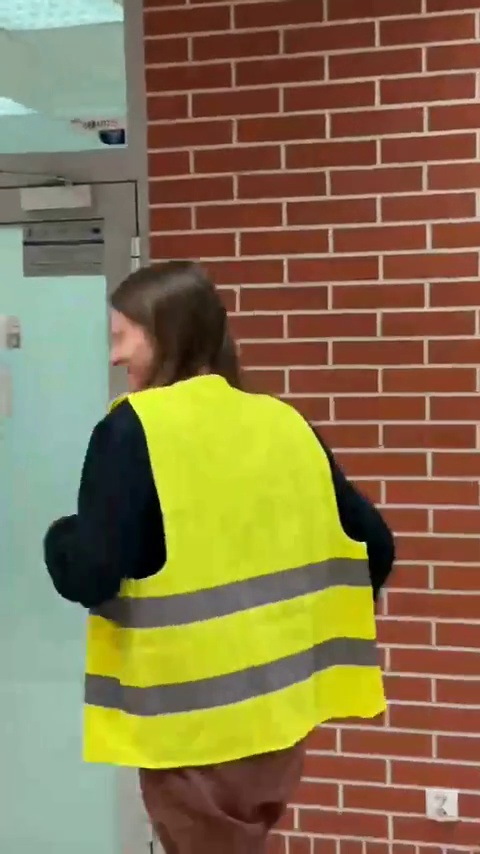vest: (36, 262, 399, 841)
